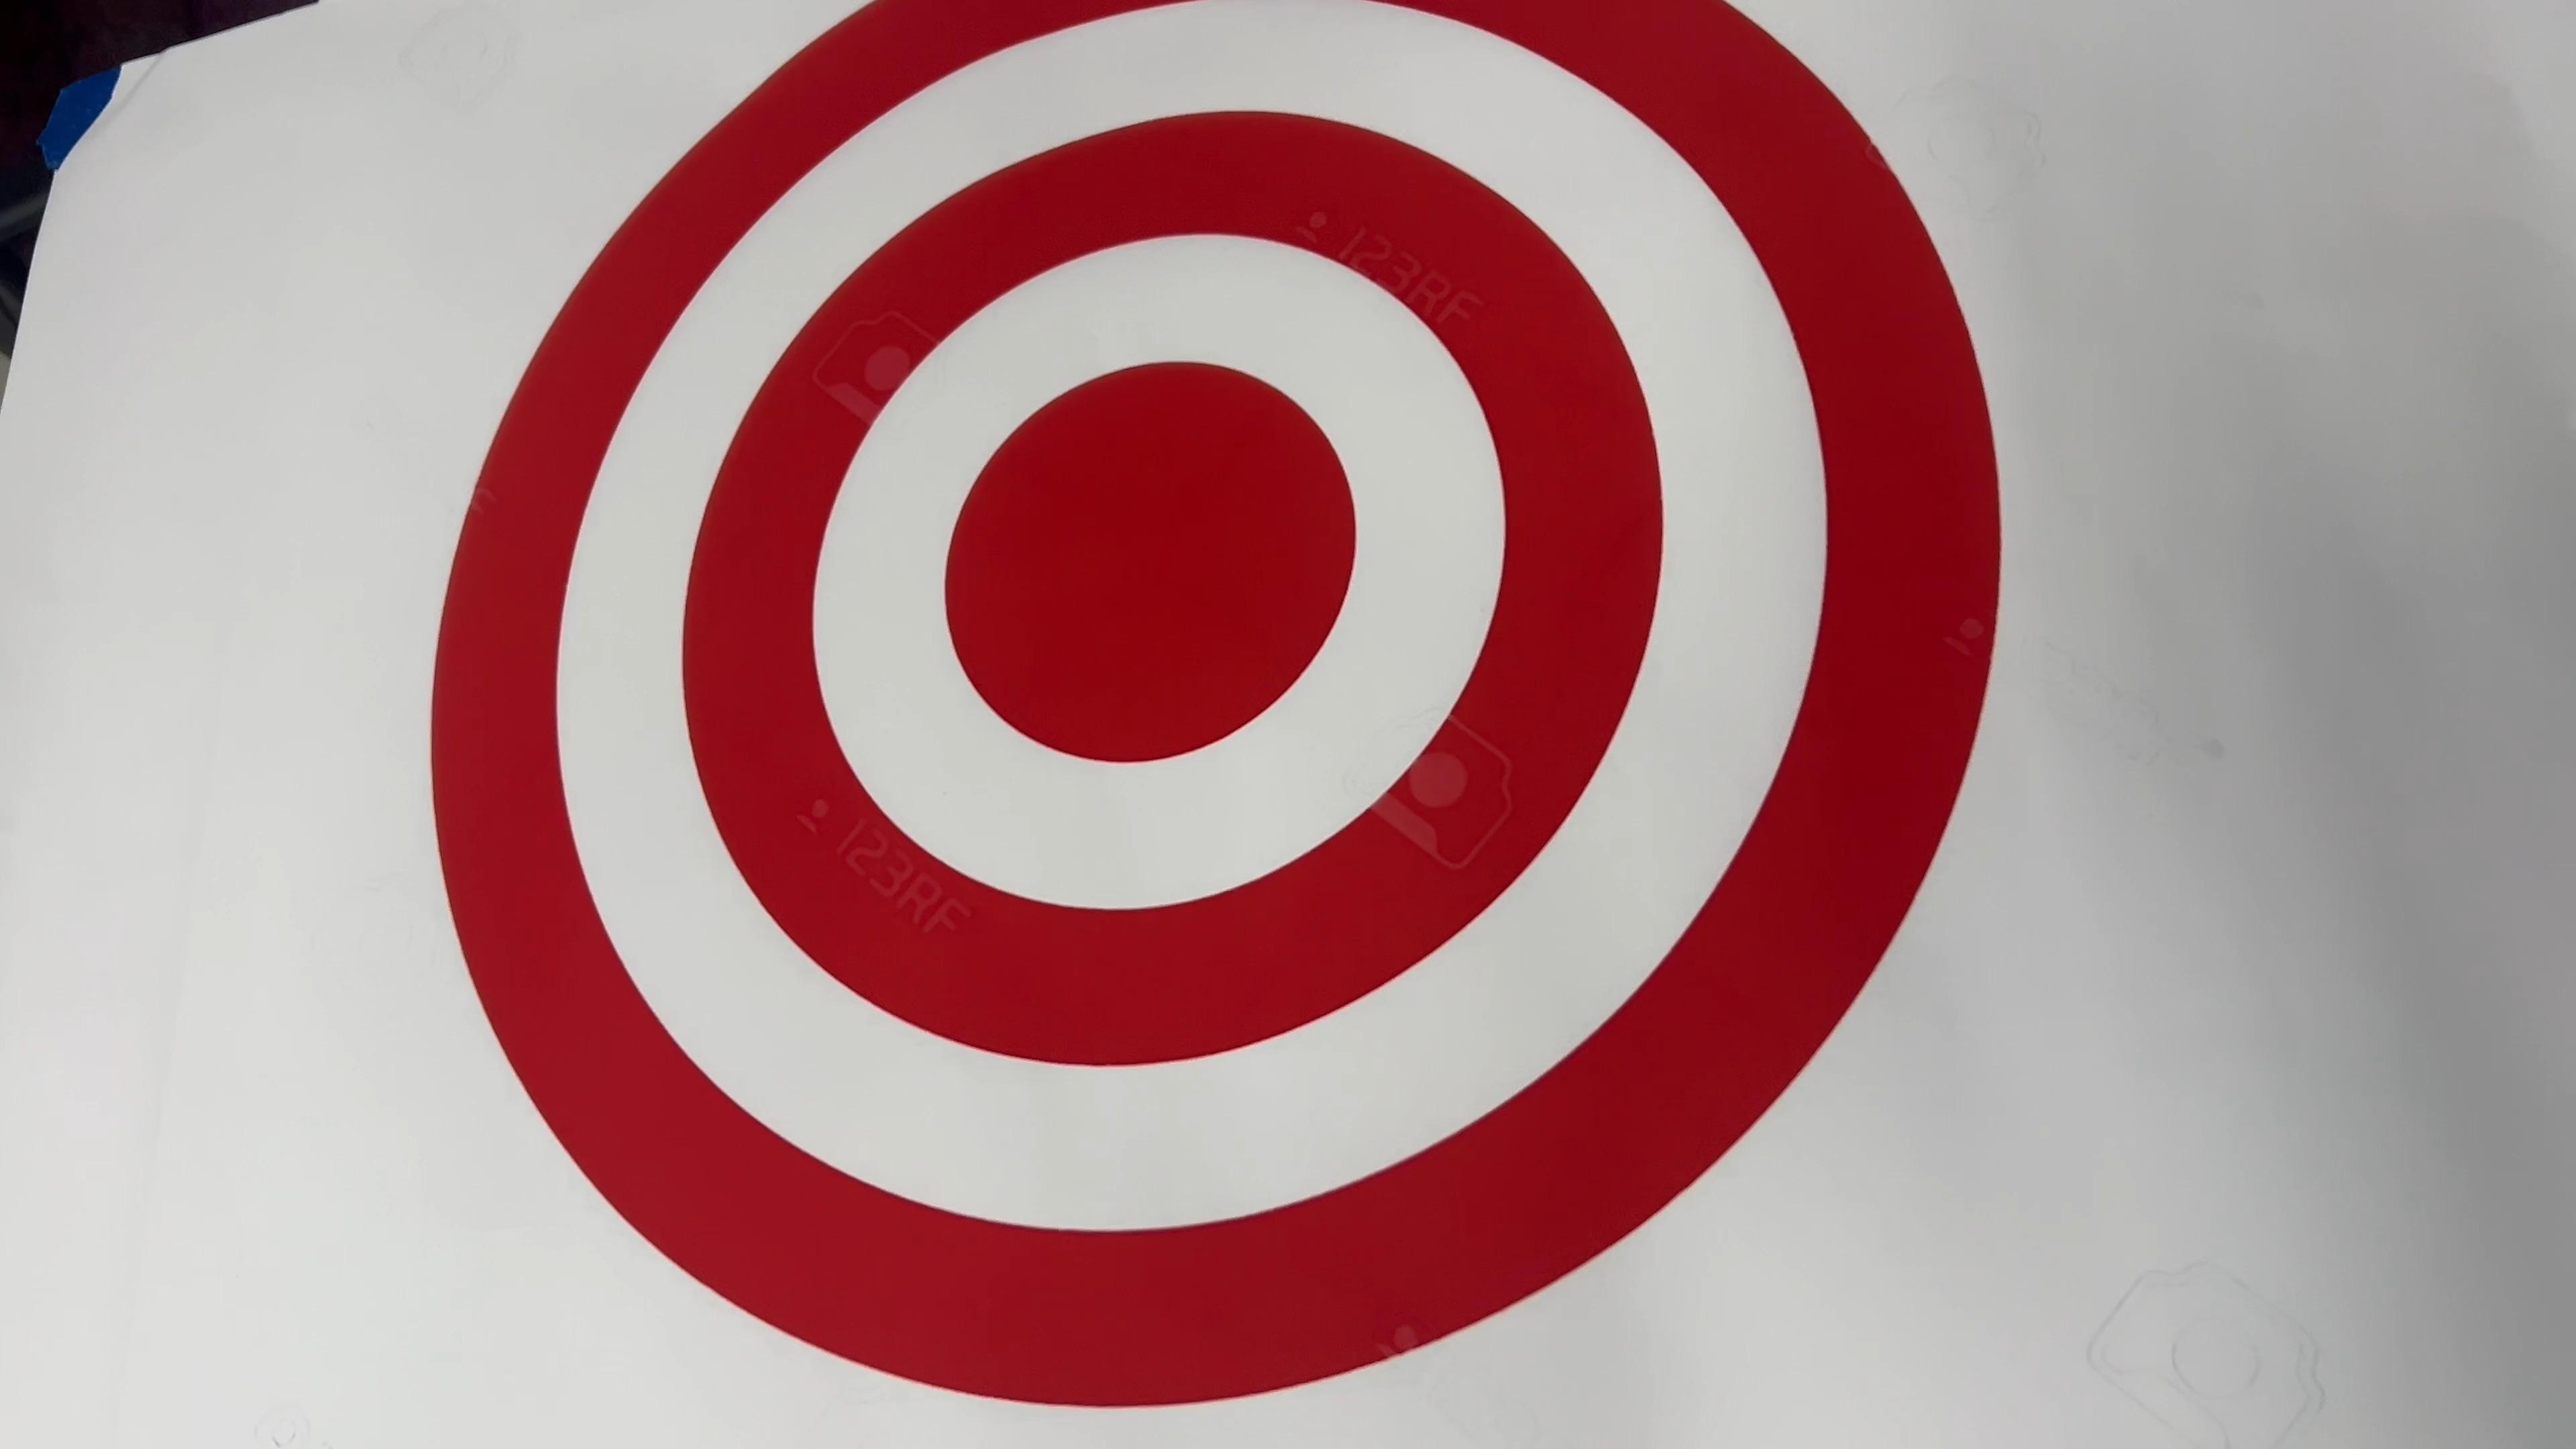target_red: (317, 0, 2033, 1444)
